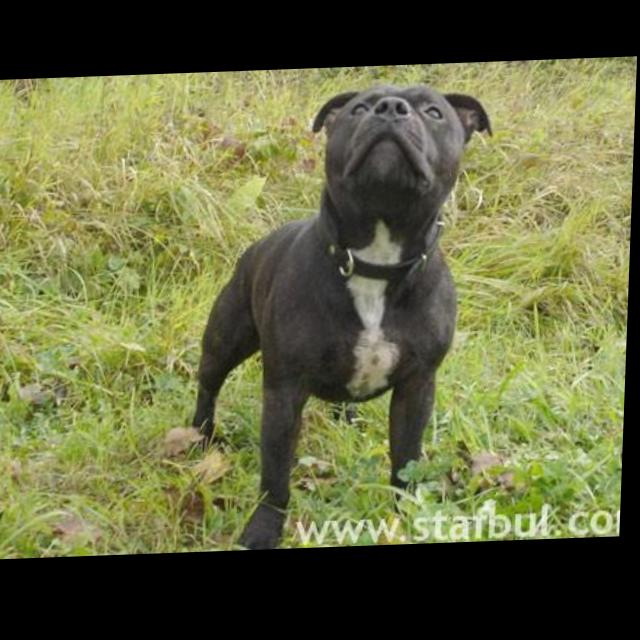staffford: (175, 82, 500, 555)
